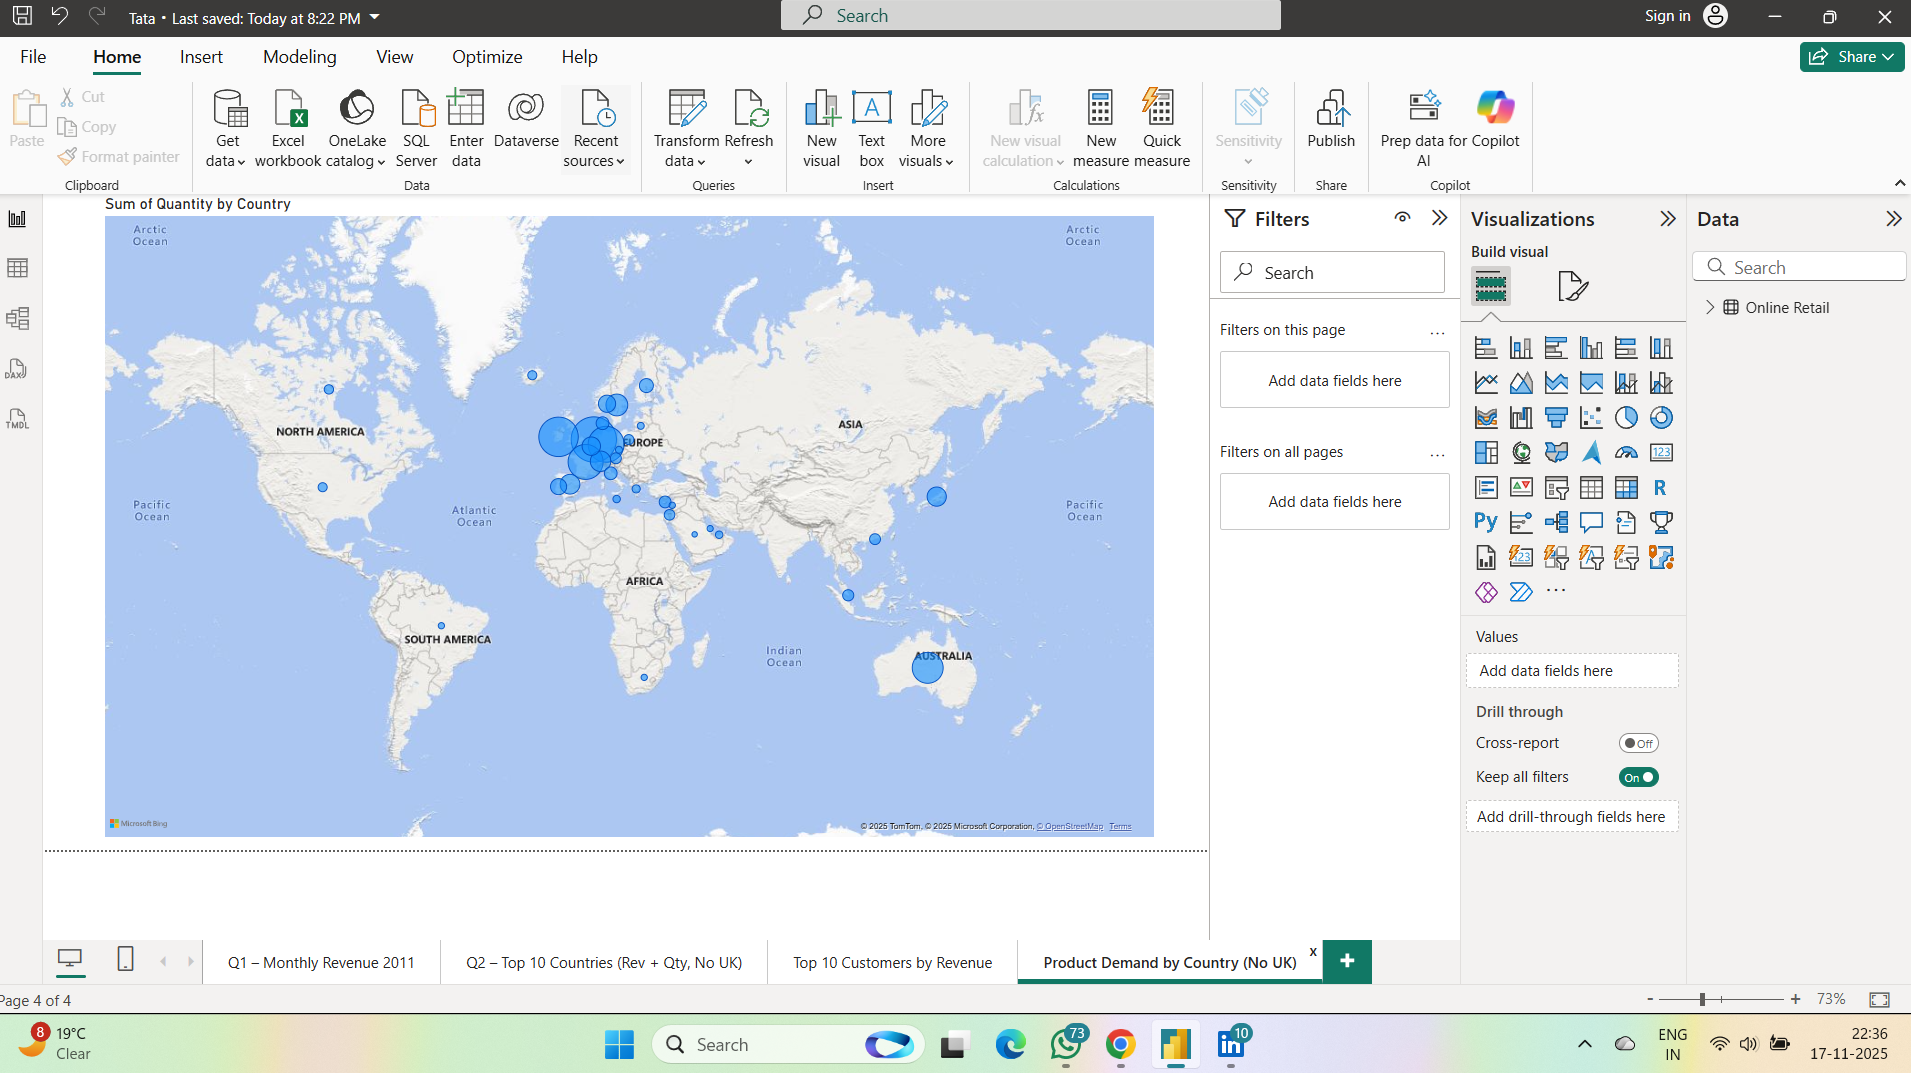

Layout of this report page (visuals, bound fields, positions):
{"tool":"powerbi","page":{"name":"Product Demand by Country (No UK)","canvas":[1280,720],"ordinal":3},"visuals":[{"type":"map","fields":{"Category":["Online Retail.Country"],"Size":["Sum(Online Retail.Quantity)"]},"box":[63.1,0,1162.3,710.8],"z":0}]}

Visuals, with their boxes on the page's 1280x720 design canvas (x1, y1, x2, y2). These are canvas units, not pixel positions in the 1911x1073 screenshot, which may show the page scaled, cropped or inside an application window:
map - Online Retail.Country x Sum(Online Retail.Quantity): 63:0:1225:711
